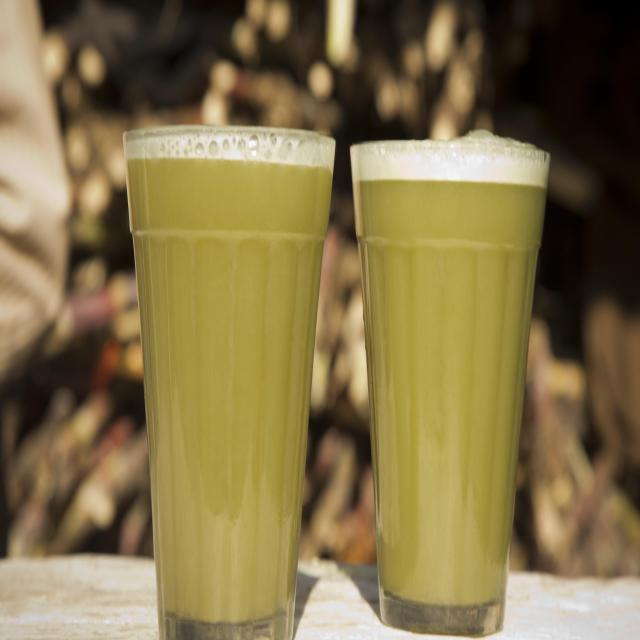glass-normal: (121, 120, 338, 639), (349, 128, 553, 636)
